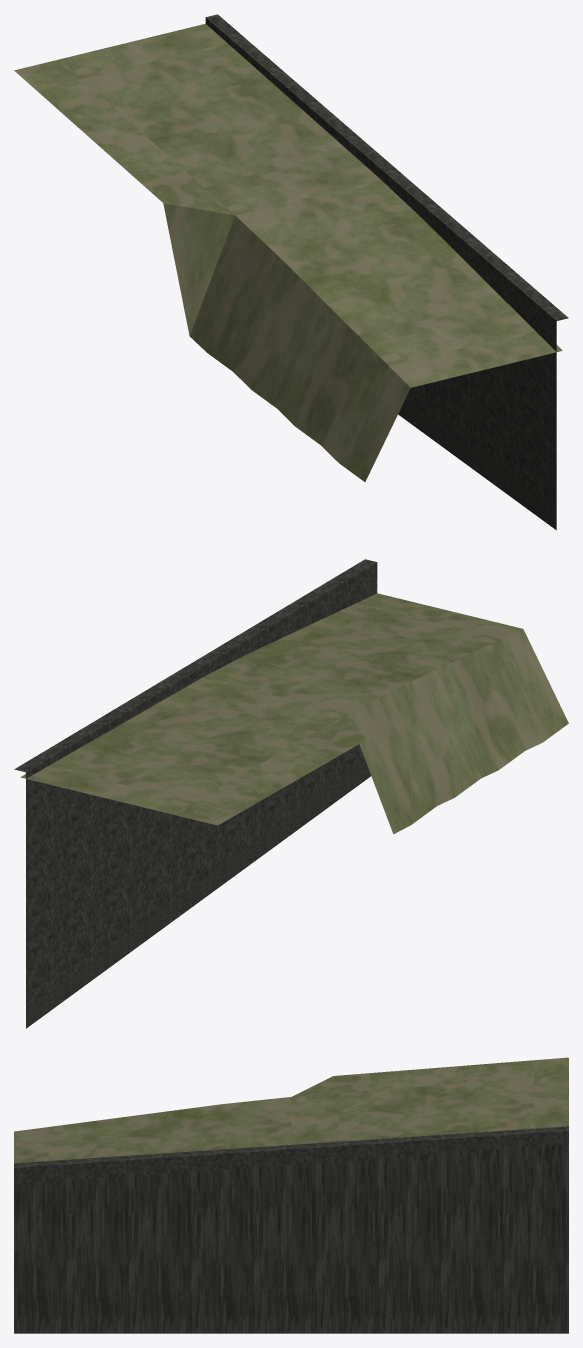
Rendered from 8_11_04b4d7eff8ee.glb.
3 renders of one model, top to bottom at view 1: azimuth 30°, elevation 25°; view 2: azimuth 150°, elevation 25°; view 3: azimuth 270°, elevation 25°, orthographic. The views are drawn at different scales.
Bounding box in the file's own units: 5.36 × 6.44 × 16.
2 materials, 2 textured.
